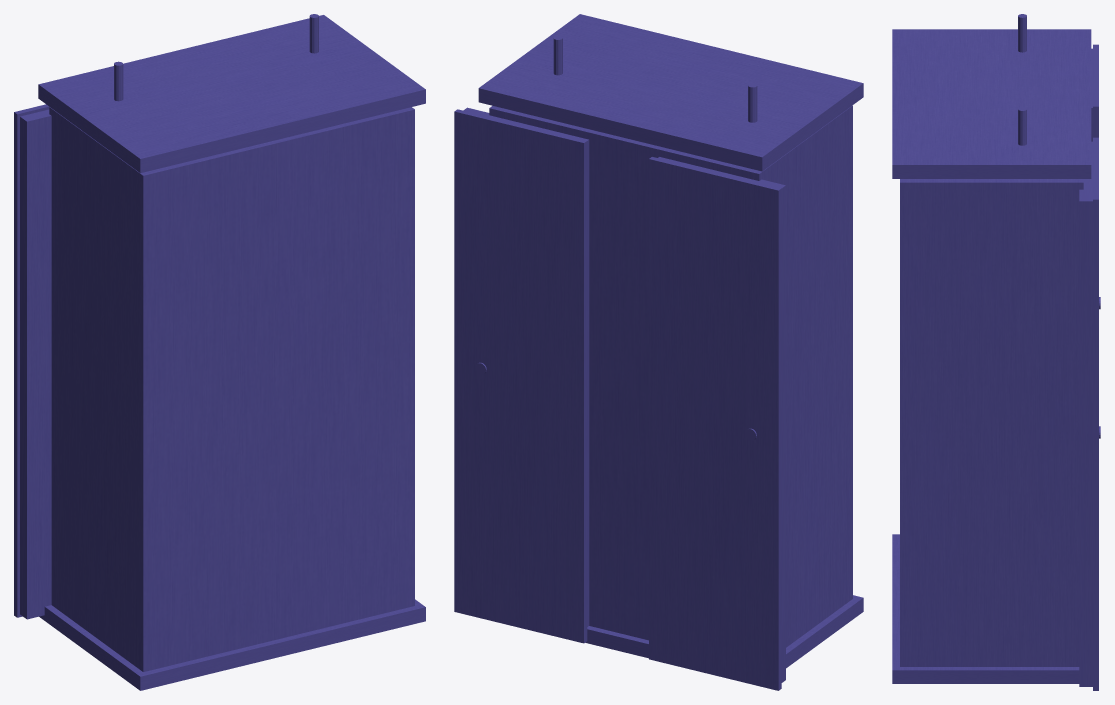
The model's file is casillero.fbx.
3 renders of one model, left to right at view 1: azimuth 30°, elevation 25°; view 2: azimuth 150°, elevation 25°; view 3: azimuth 270°, elevation 25°, orthographic. The views are drawn at different scales.
Visible parts, largest first — view 1: Top; view 2: Top; view 3: Top.
Boxes of the visible parts, x1=… form: Top: x1=14, y1=14, x2=425, y2=690; Top: x1=454, y1=14, x2=863, y2=690; Top: x1=892, y1=14, x2=1100, y2=690.
Size of the model in its own units: 120 by 200 by 68.
Materials: 1 (1 with a texture image).
